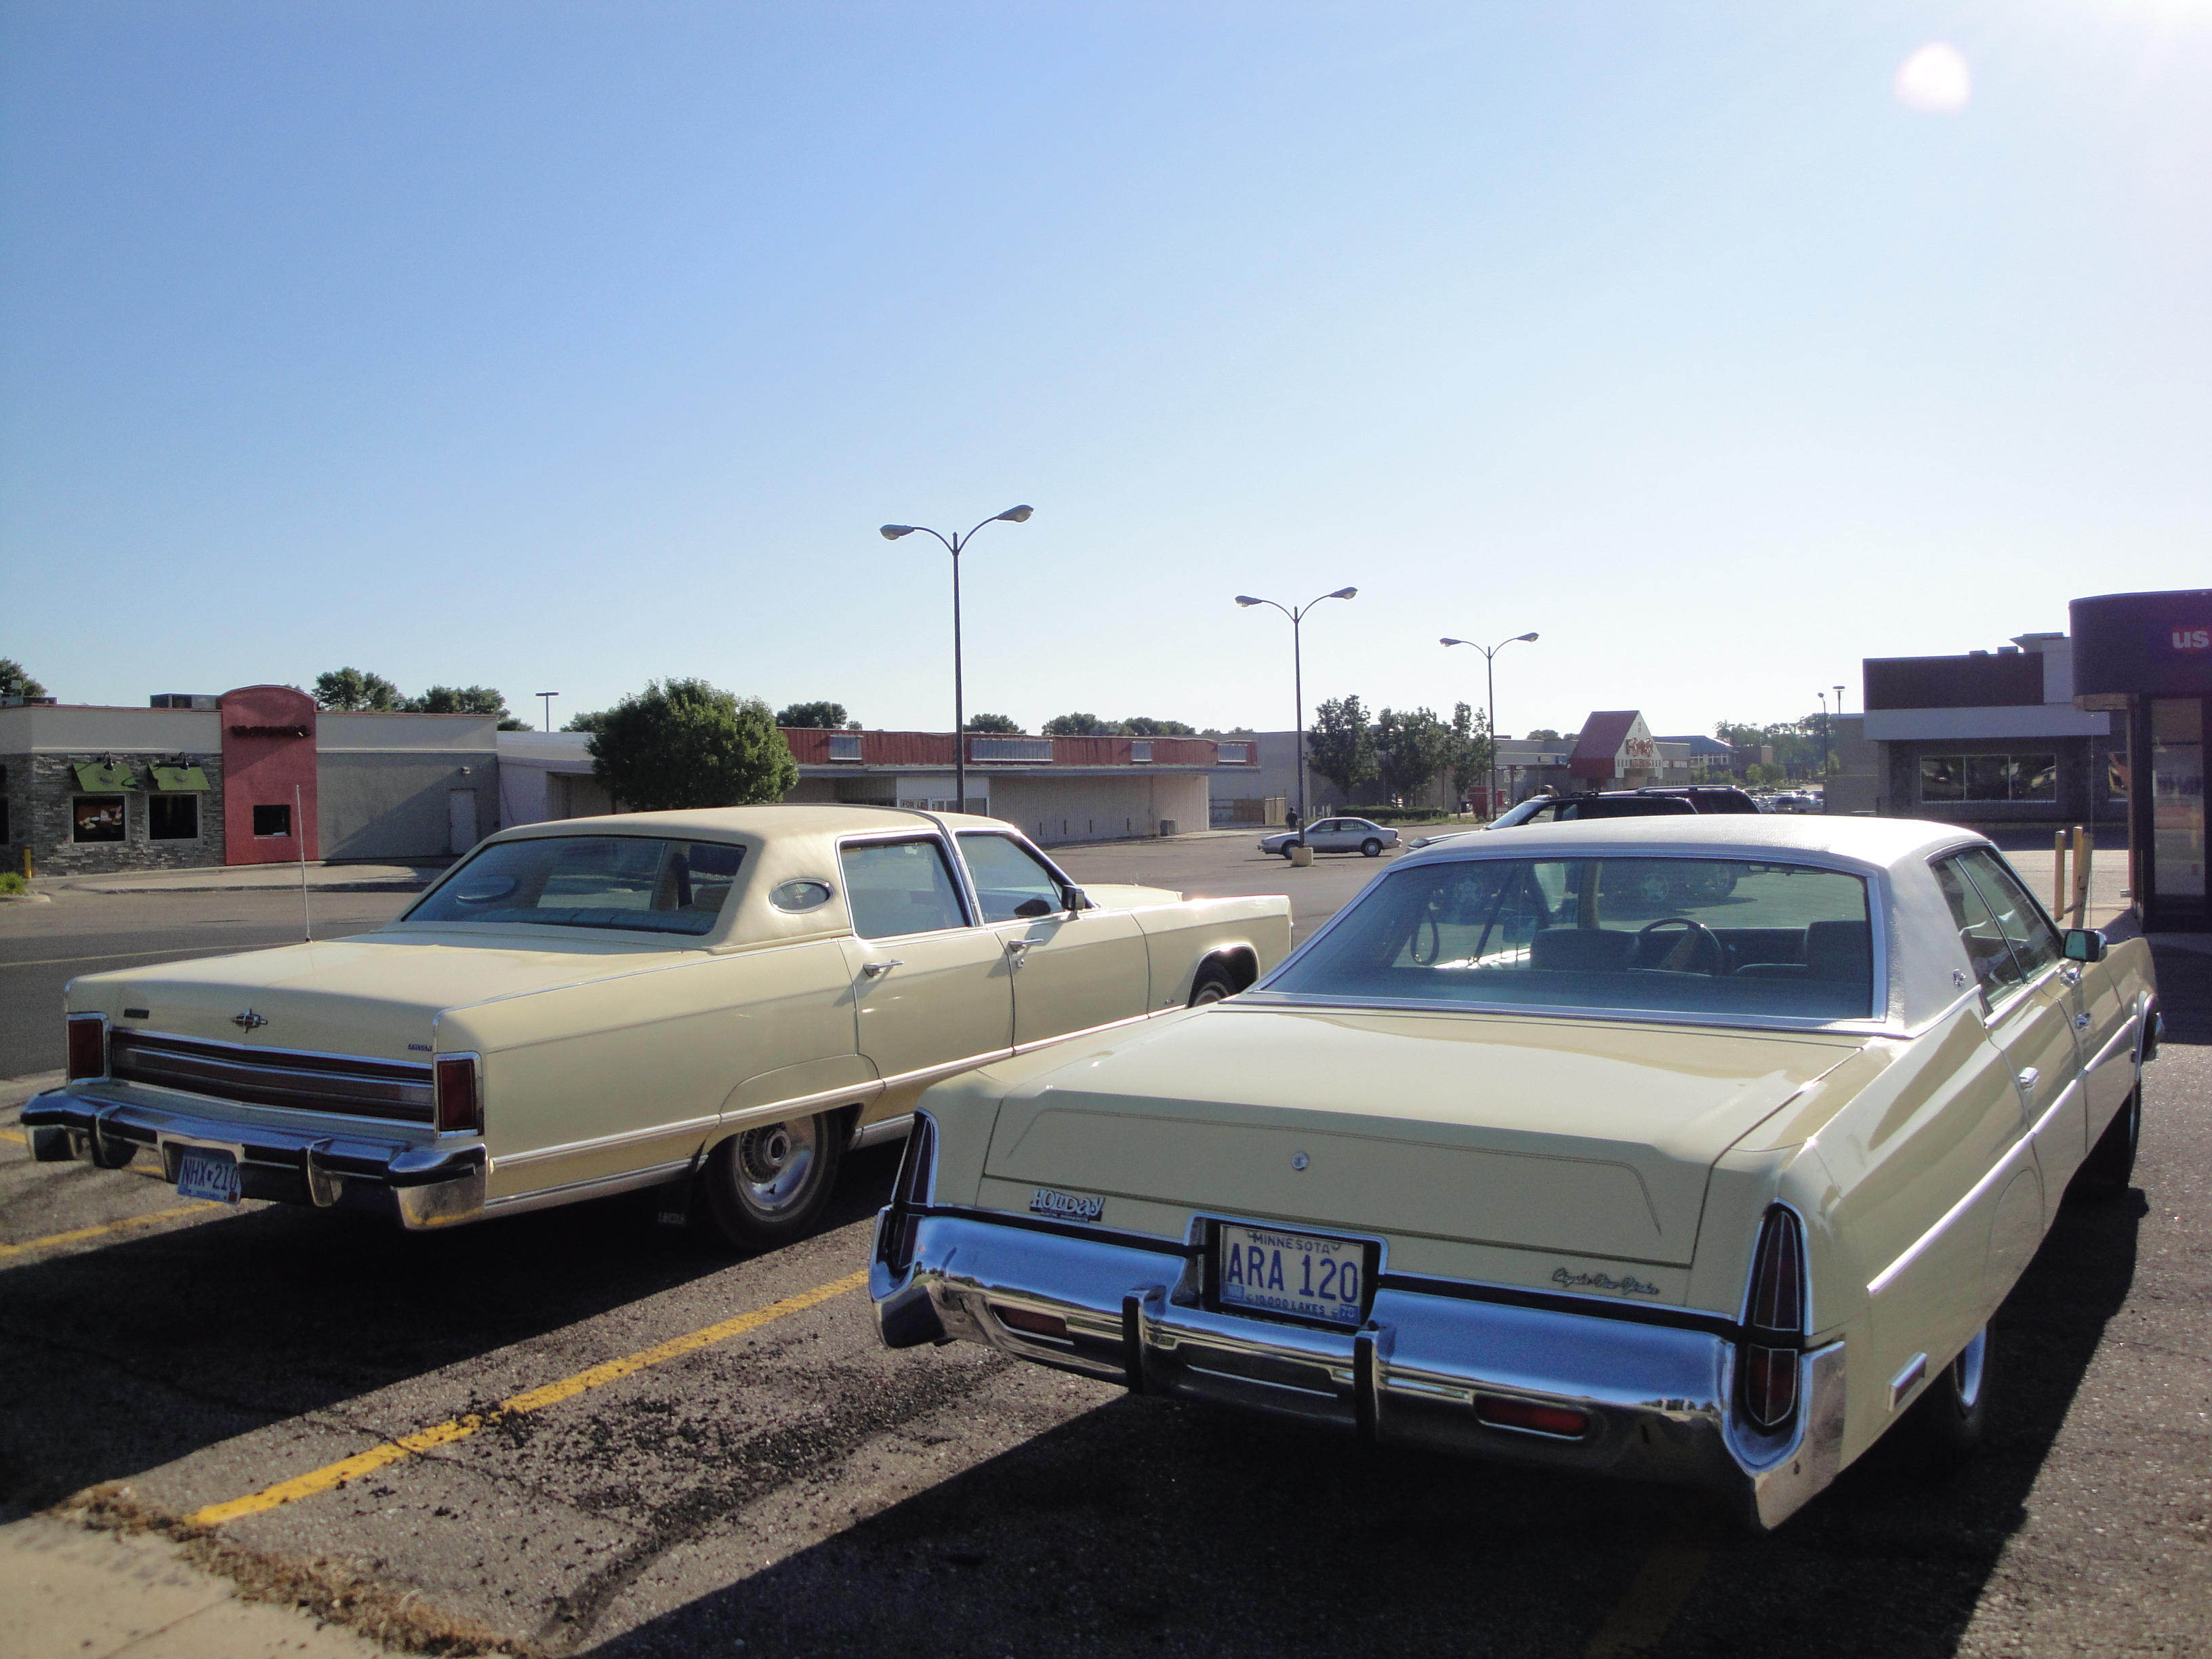Car: (900, 793, 2125, 1528), (0, 798, 1292, 1227), (1406, 782, 1698, 911), (1564, 782, 1763, 899), (1261, 810, 1386, 861), (1763, 791, 1822, 816)
